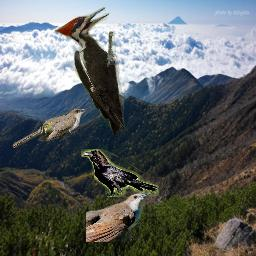Crow: (81, 149, 159, 197)
Cuckoo: (86, 193, 150, 242), (12, 108, 86, 148)
Woodpecker: (54, 7, 125, 136)
